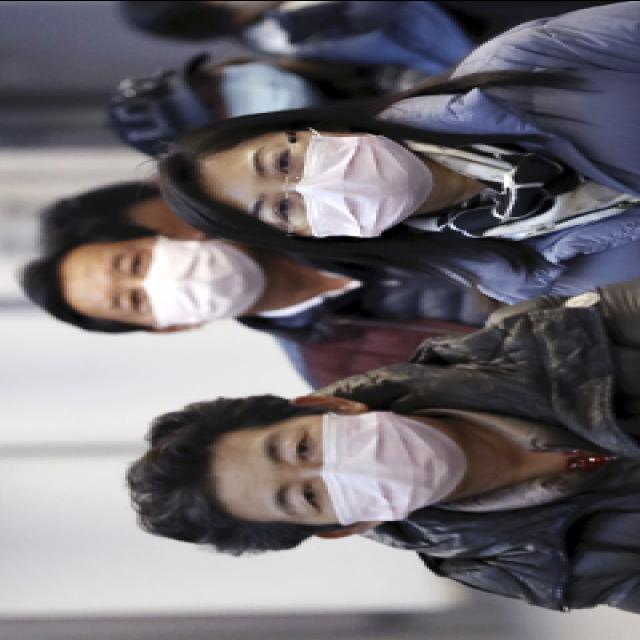with_mask: (253, 408, 459, 531), (237, 131, 435, 237), (99, 235, 272, 328), (202, 61, 320, 120)
